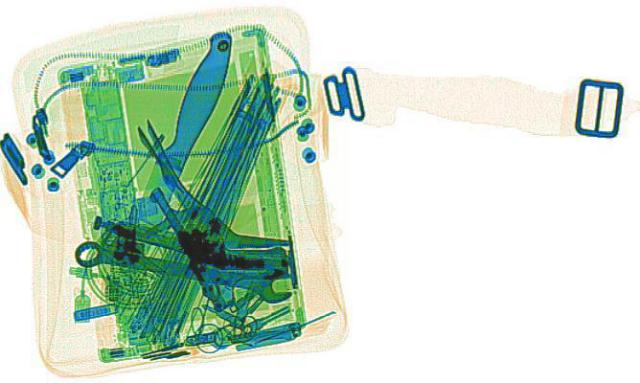Gun: (144, 172, 310, 311)
Knife: (112, 28, 246, 257)
Wrench: (63, 230, 301, 302)
